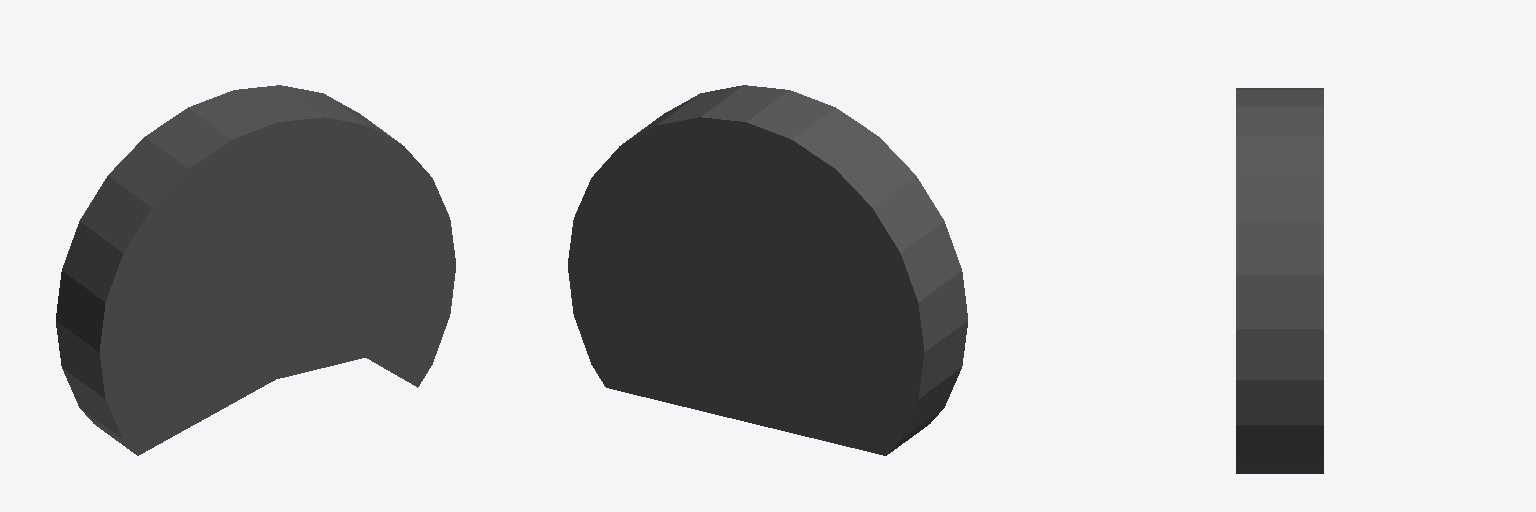
File: RS_Cring2mm_v1.obj
3 views of the same model, side by side, from view 1: azimuth 30°, elevation 25°; view 2: azimuth 150°, elevation 25°; view 3: azimuth 270°, elevation 25° (orthographic).
Parts seen in each view (by area): view 1: Mesh1 _____97_1 Model; view 2: Mesh1 _____97_1 Model; view 3: Mesh1 _____97_1 Model.
Boxes of the visible parts, <box> form: Mesh1 _____97_1 Model: <box>56,85,455,455</box>; Mesh1 _____97_1 Model: <box>568,85,967,455</box>; Mesh1 _____97_1 Model: <box>1236,88,1323,473</box>.
Size of the model in its own units: 9.38 by 7.53 by 2.